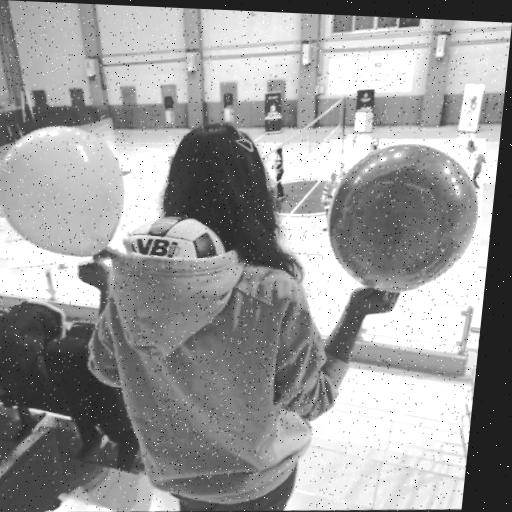balloon: (313, 137, 488, 299), (0, 105, 139, 282)
